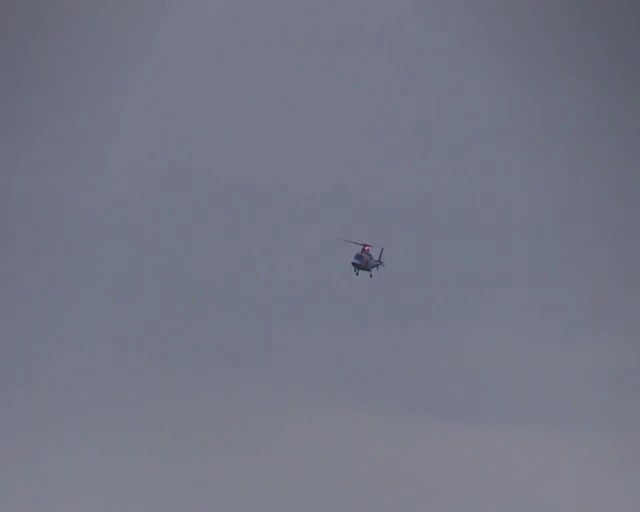HELICOPTER: (337, 237, 386, 278)
